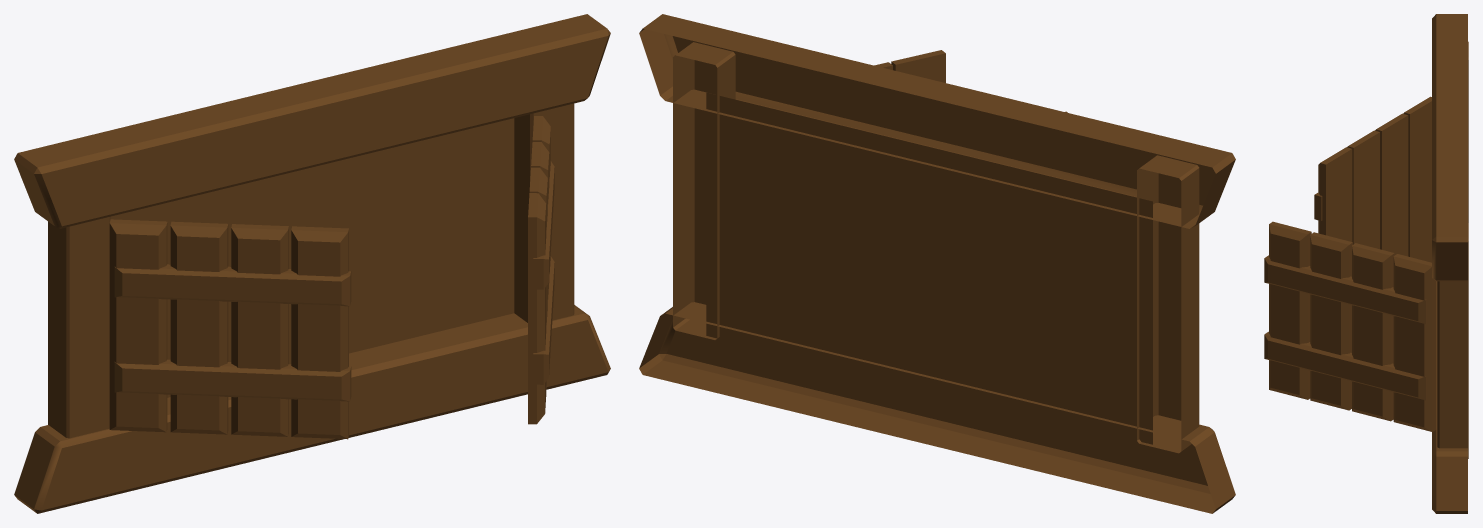
Rendered from VentanaDoble1.fbx.
The picture shows the model from 3 angles, left to right: view 1: azimuth 30°, elevation 25°; view 2: azimuth 150°, elevation 25°; view 3: azimuth 270°, elevation 25°; orthographic projection. The views are drawn at different scales.
Visible parts, largest first — view 1: Ventana3; view 2: Ventana3; view 3: Ventana3.
Boxes of the visible parts, x1,y1,x2,y2 form: Ventana3: [14, 14, 610, 513]; Ventana3: [639, 14, 1235, 513]; Ventana3: [1264, 14, 1468, 513].
Bounding box in the file's own units: 0.6512 × 0.3736 × 0.2492.
